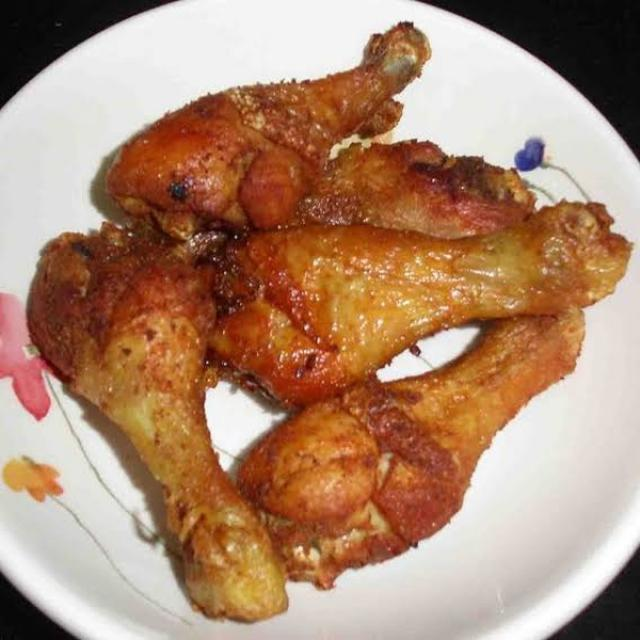CHICKEN FRY: (28, 22, 639, 621)
